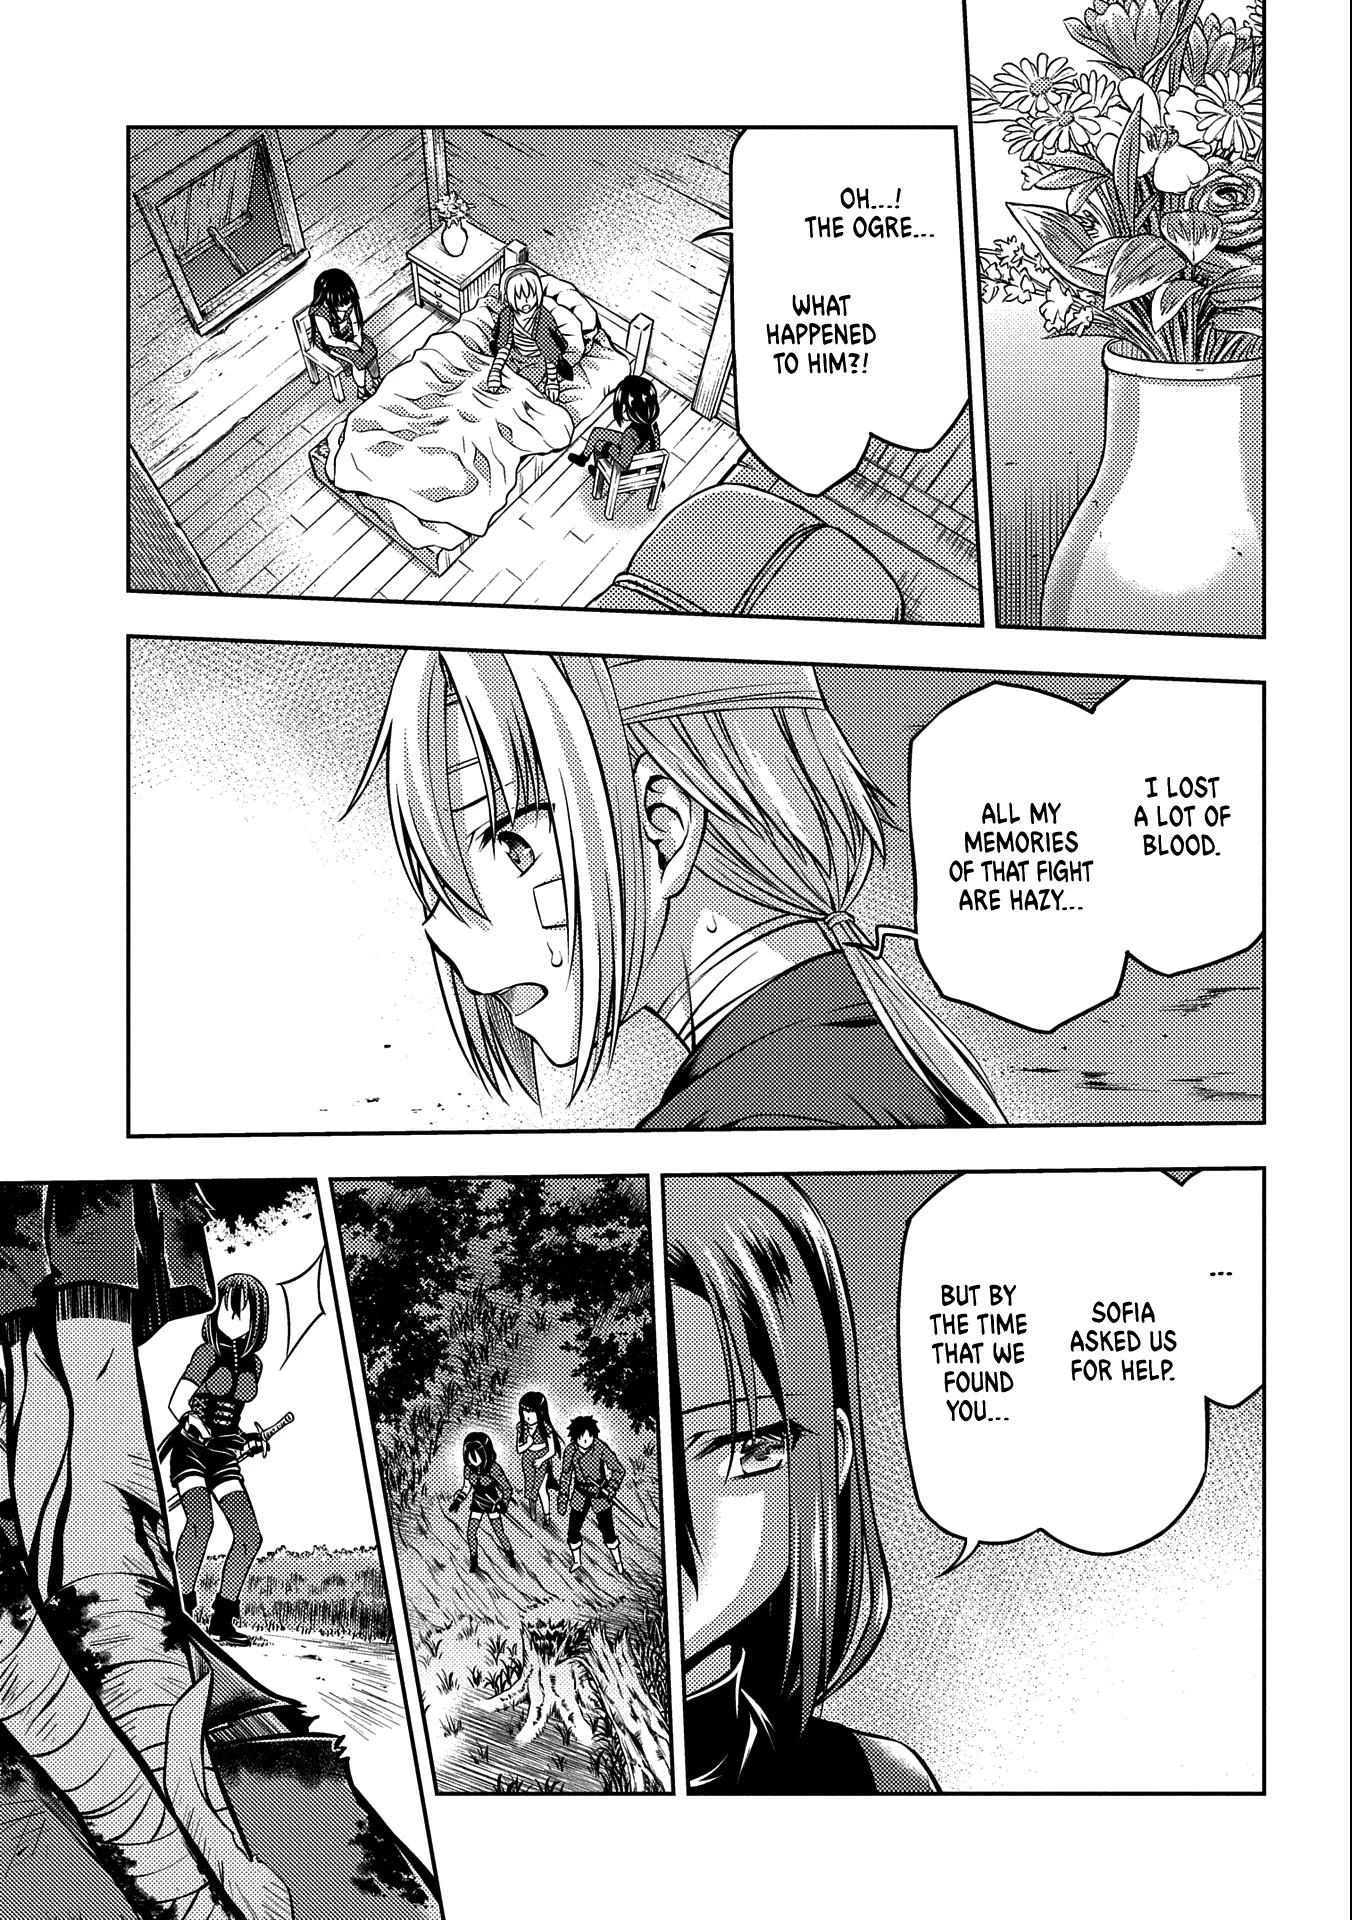Bubble: (903, 678, 1118, 1039), (727, 259, 976, 500), (895, 1160, 1048, 1548), (1056, 1160, 1191, 1557), (1124, 679, 1269, 980), (721, 120, 977, 260), (1194, 1160, 1272, 1414)
